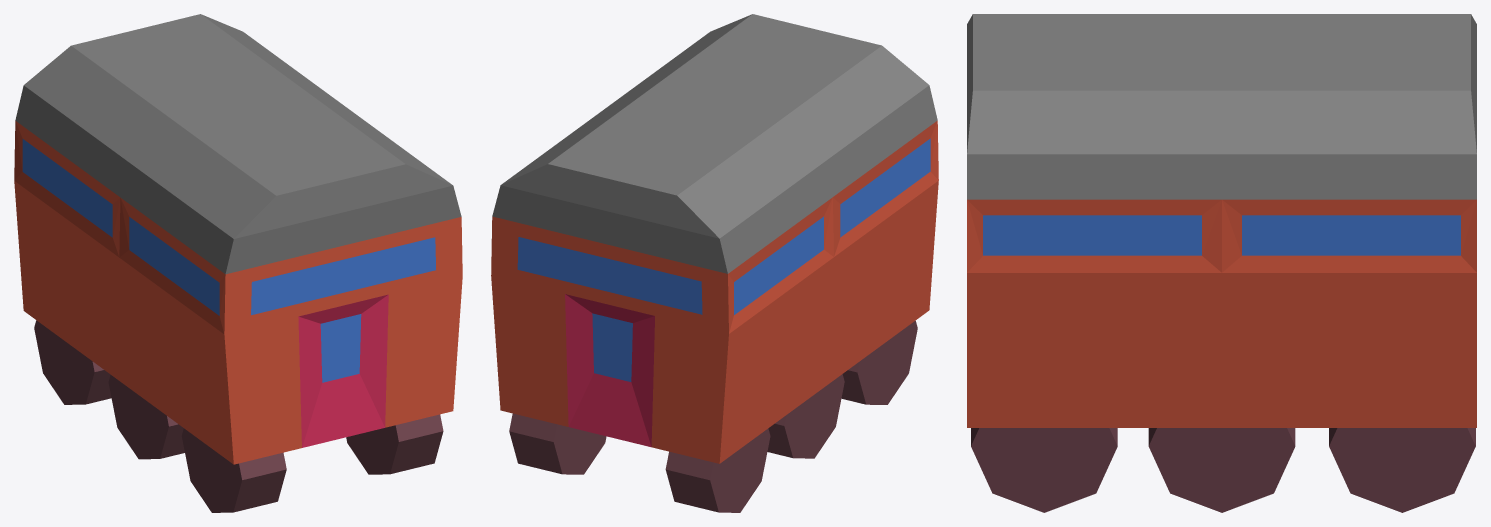
Rendered from TrainModel.dae.
3 renders of one model, left to right at view 1: azimuth 30°, elevation 25°; view 2: azimuth 150°, elevation 25°; view 3: azimuth 270°, elevation 25°, orthographic. The views are drawn at different scales.
Parts seen in each view (by area): view 1: body, wheel.003, wheel, wheel.005, wheel.004; view 2: body, wheel.005, wheel.002, wheel.004, wheel.003; view 3: body, wheel.001, wheel, wheel.002.
Boxes of the visible parts, x1,y1,x2,y2 form: body: [14, 14, 462, 464]; wheel.003: [181, 428, 286, 512]; wheel: [346, 414, 443, 474]; wheel.005: [34, 320, 111, 404]; wheel.004: [108, 375, 184, 459]; body: [491, 14, 938, 463]; wheel.005: [665, 428, 770, 512]; wheel.002: [509, 413, 606, 474]; wheel.004: [767, 374, 844, 458]; wheel.003: [841, 321, 917, 404]; body: [967, 14, 1476, 427]; wheel.001: [1148, 428, 1295, 512]; wheel: [971, 428, 1117, 512]; wheel.002: [1329, 428, 1475, 512].
Size of the model in its own units: 1.72 by 2.63 by 2.28.
